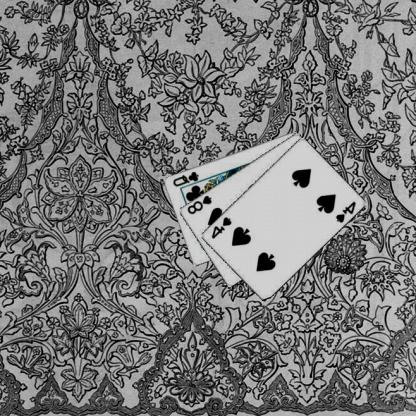4S: (210, 214, 235, 240), (334, 198, 358, 224)
8S: (186, 192, 214, 216)
QC: (172, 169, 202, 188)
